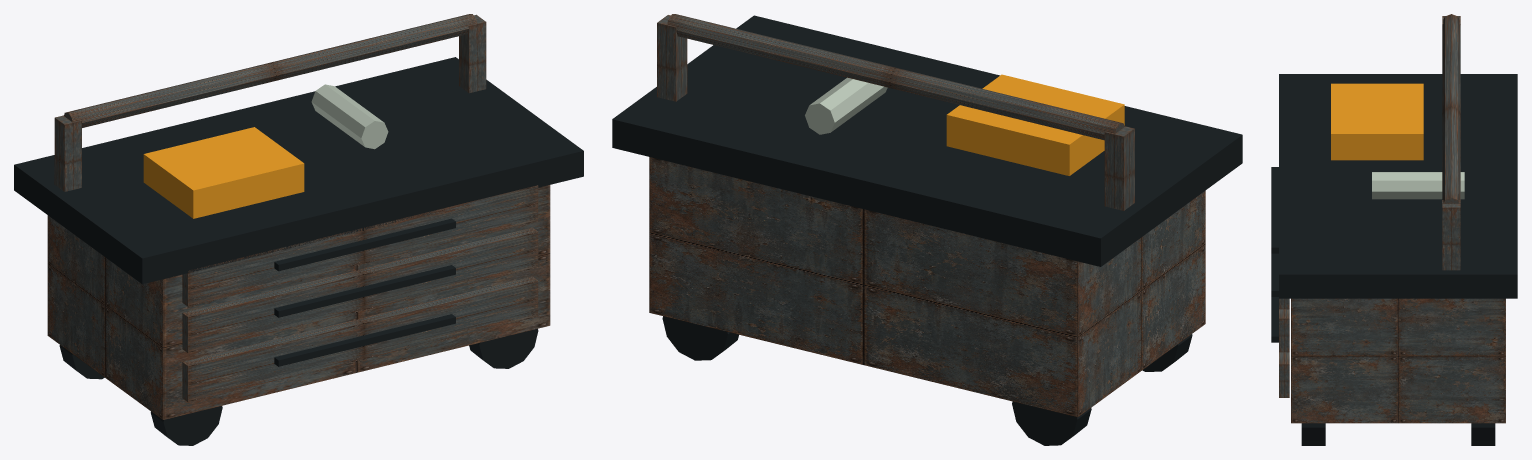
Rendered from ToolCart.obj.
3 views of the same model, side by side, from view 1: azimuth 30°, elevation 25°; view 2: azimuth 150°, elevation 25°; view 3: azimuth 270°, elevation 25° (orthographic). The views are drawn at different scales.
Parts seen in each view (by area): view 1: ToolCart; view 2: ToolCart; view 3: ToolCart.
Part boxes in pixels (<box>): ToolCart: <box>14,14,583,445</box>; ToolCart: <box>612,14,1242,445</box>; ToolCart: <box>1271,14,1517,445</box>.
Size of the model in its own units: 1.79 by 1.11 by 0.93.
5 materials, 2 textured.
